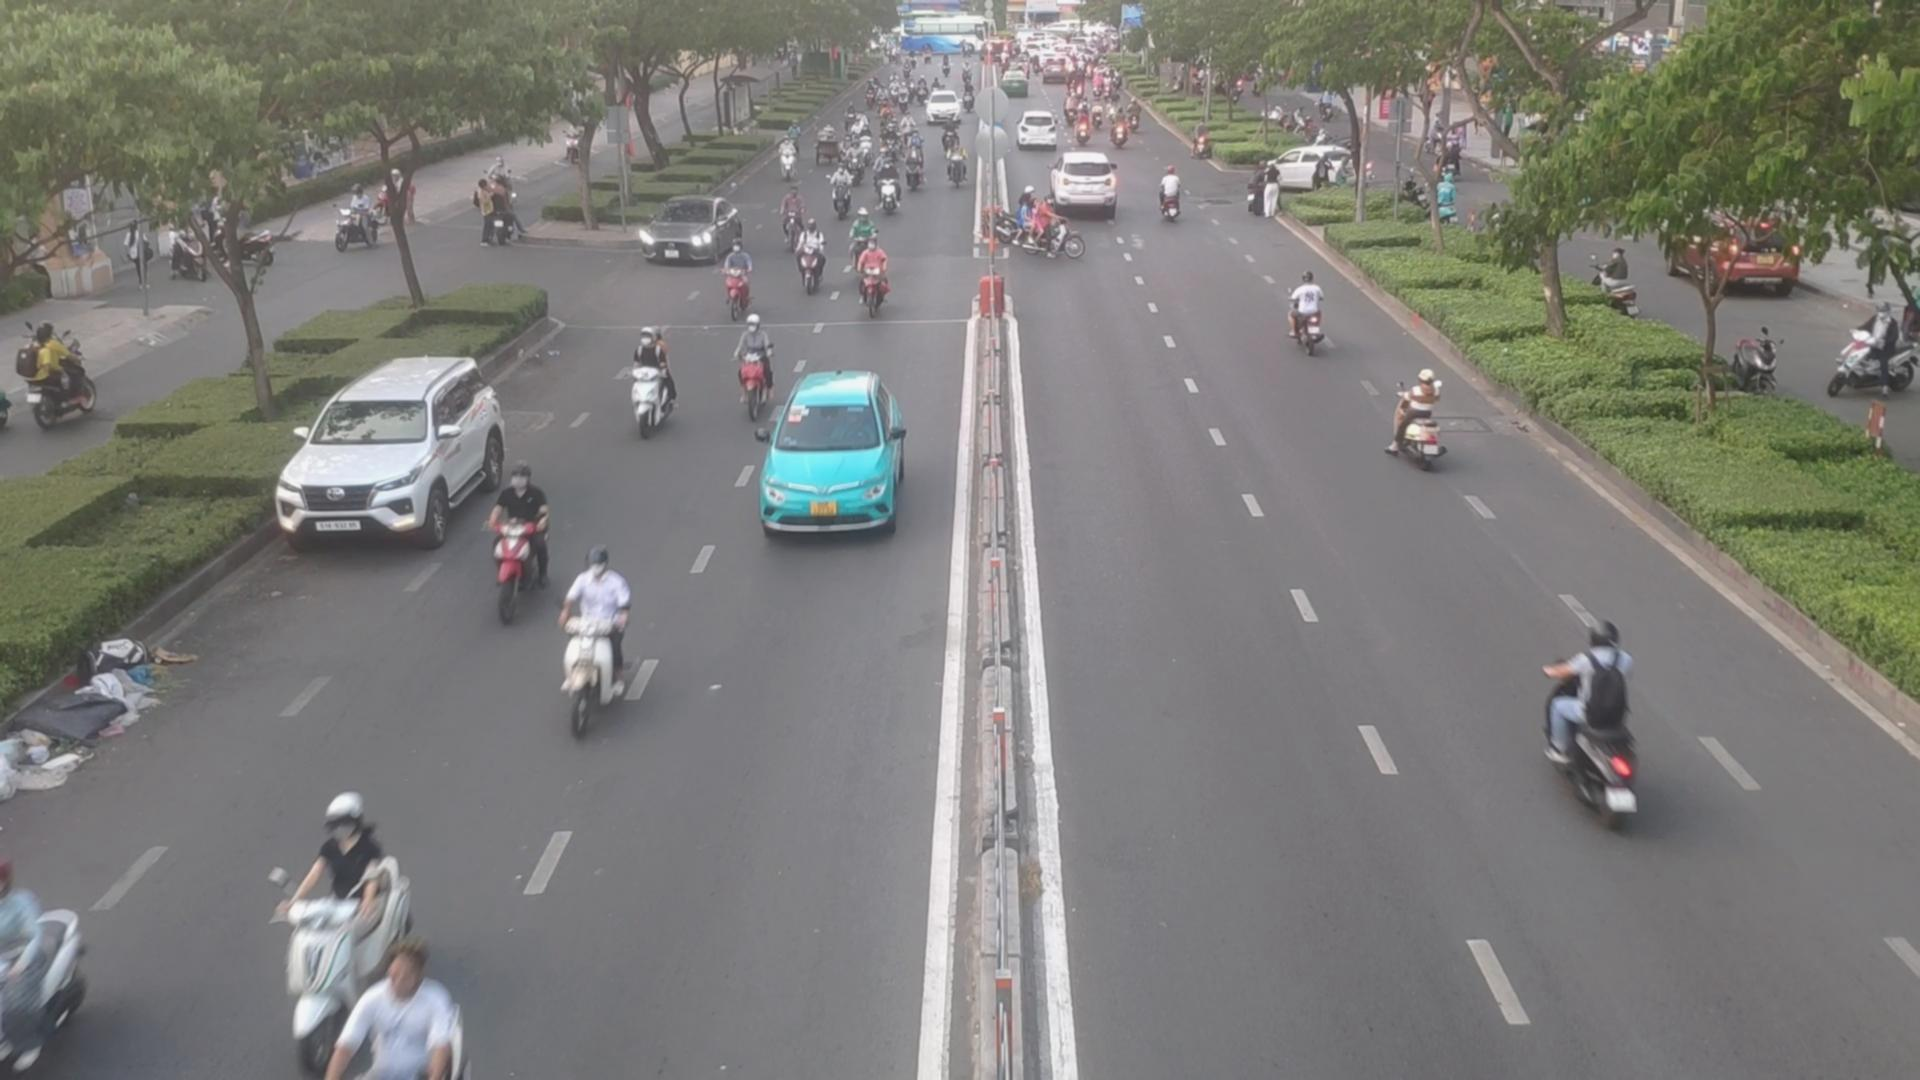car: (276, 361, 510, 551), (774, 375, 898, 535), (636, 196, 746, 265), (1054, 152, 1125, 210), (1015, 109, 1058, 145)
motorbike: (266, 796, 407, 1054), (1543, 632, 1651, 840), (566, 535, 632, 744), (1379, 364, 1452, 473), (483, 469, 537, 604), (630, 331, 687, 439), (731, 322, 771, 415), (1021, 200, 1081, 255), (721, 233, 756, 320), (1295, 273, 1327, 355), (855, 233, 884, 320), (778, 193, 810, 247), (1156, 167, 1185, 222), (798, 212, 815, 287), (880, 156, 899, 214), (948, 138, 969, 191), (851, 204, 866, 268), (905, 144, 924, 193), (829, 166, 849, 214), (847, 140, 864, 183), (778, 138, 798, 175), (857, 125, 872, 165), (789, 119, 802, 154)
